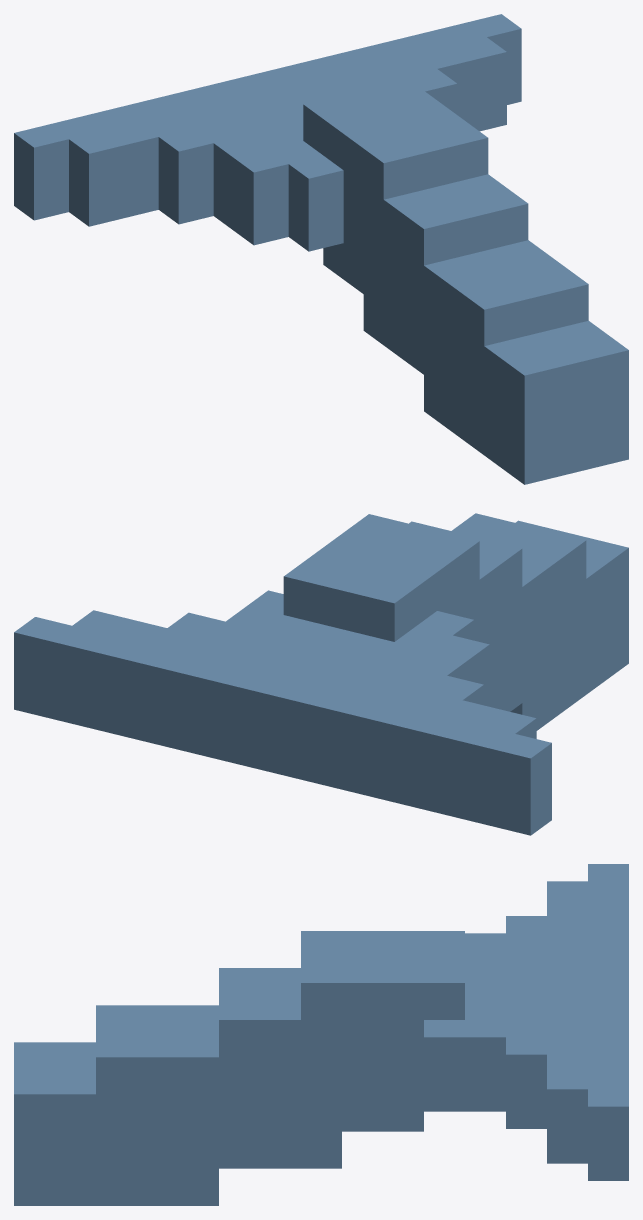
The model's file is dolphin__tail.glb.
3 renders of one model, top to bottom at view 1: azimuth 30°, elevation 25°; view 2: azimuth 150°, elevation 25°; view 3: azimuth 270°, elevation 25°, orthographic. The views are drawn at different scales.
Parts seen in each view (by area): view 1: dolphin__tail; view 2: dolphin__tail; view 3: dolphin__tail.
Boxes of the visible parts, left/top/right/bottom form: dolphin__tail: left=14, top=14, right=628, bottom=484; dolphin__tail: left=14, top=513, right=628, bottom=835; dolphin__tail: left=14, top=864, right=628, bottom=1205.
Bounding box in the file's own units: 1.4 × 0.6 × 1.5.
1 material, 1 textured.
